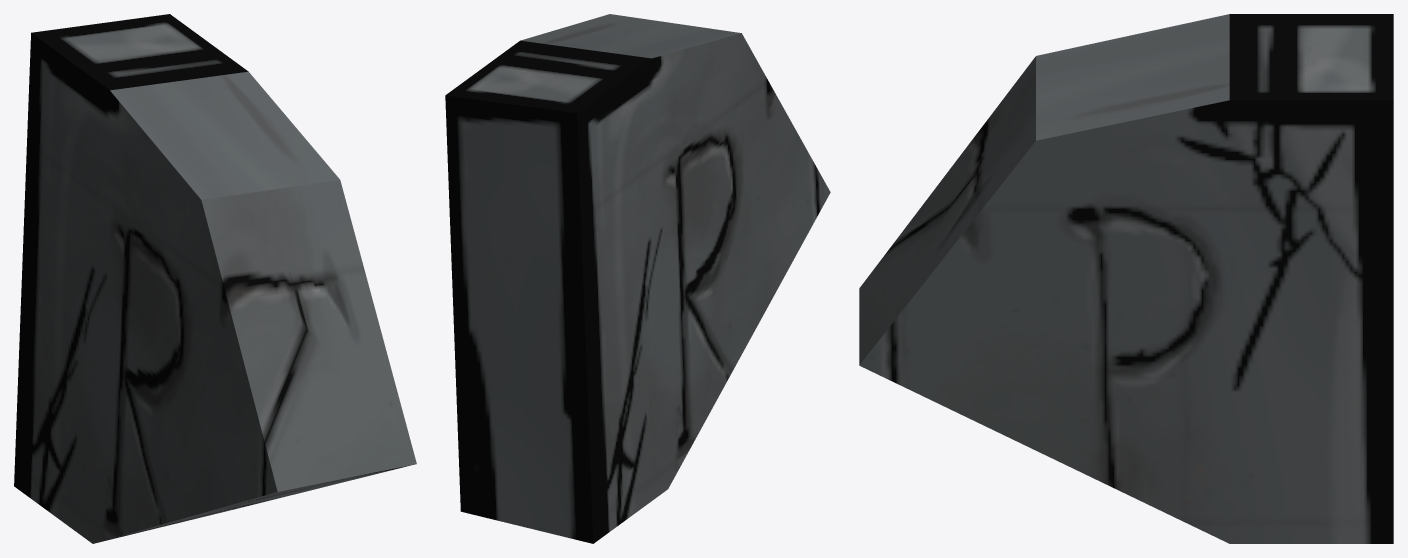
File: tombstone_05_gib5.fbx
The picture shows the model from 3 angles, left to right: view 1: azimuth 30°, elevation 25°; view 2: azimuth 150°, elevation 25°; view 3: azimuth 270°, elevation 25°; orthographic projection. The views are drawn at different scales.
Visible parts, largest first — view 1: tombstone_05_gib5; view 2: tombstone_05_gib5; view 3: tombstone_05_gib5.
Boxes of the visible parts, box(x1,y1,x2,y2) form: tombstone_05_gib5: box(14, 14, 416, 543); tombstone_05_gib5: box(445, 14, 830, 543); tombstone_05_gib5: box(859, 14, 1393, 543).
Size of the model in its own units: 1.12 by 3.08 by 3.19.
